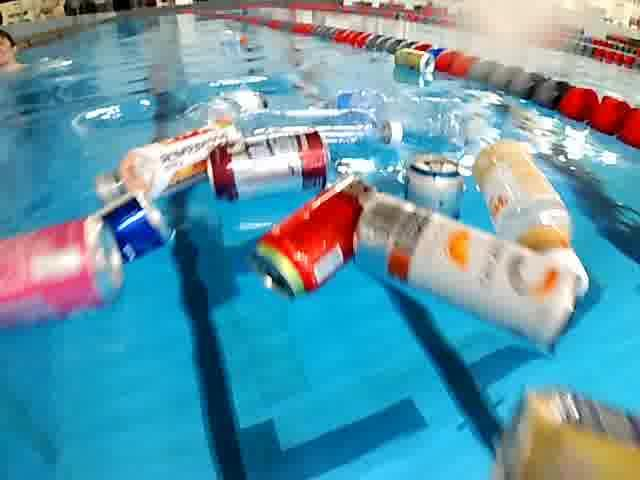Bottle: (463, 140, 590, 307), (90, 118, 247, 212), (245, 104, 409, 155), (387, 48, 442, 75)
Can: (351, 190, 586, 359), (249, 178, 385, 303), (484, 376, 640, 480), (0, 214, 129, 328), (202, 126, 336, 214), (93, 188, 171, 268), (401, 146, 469, 231)
